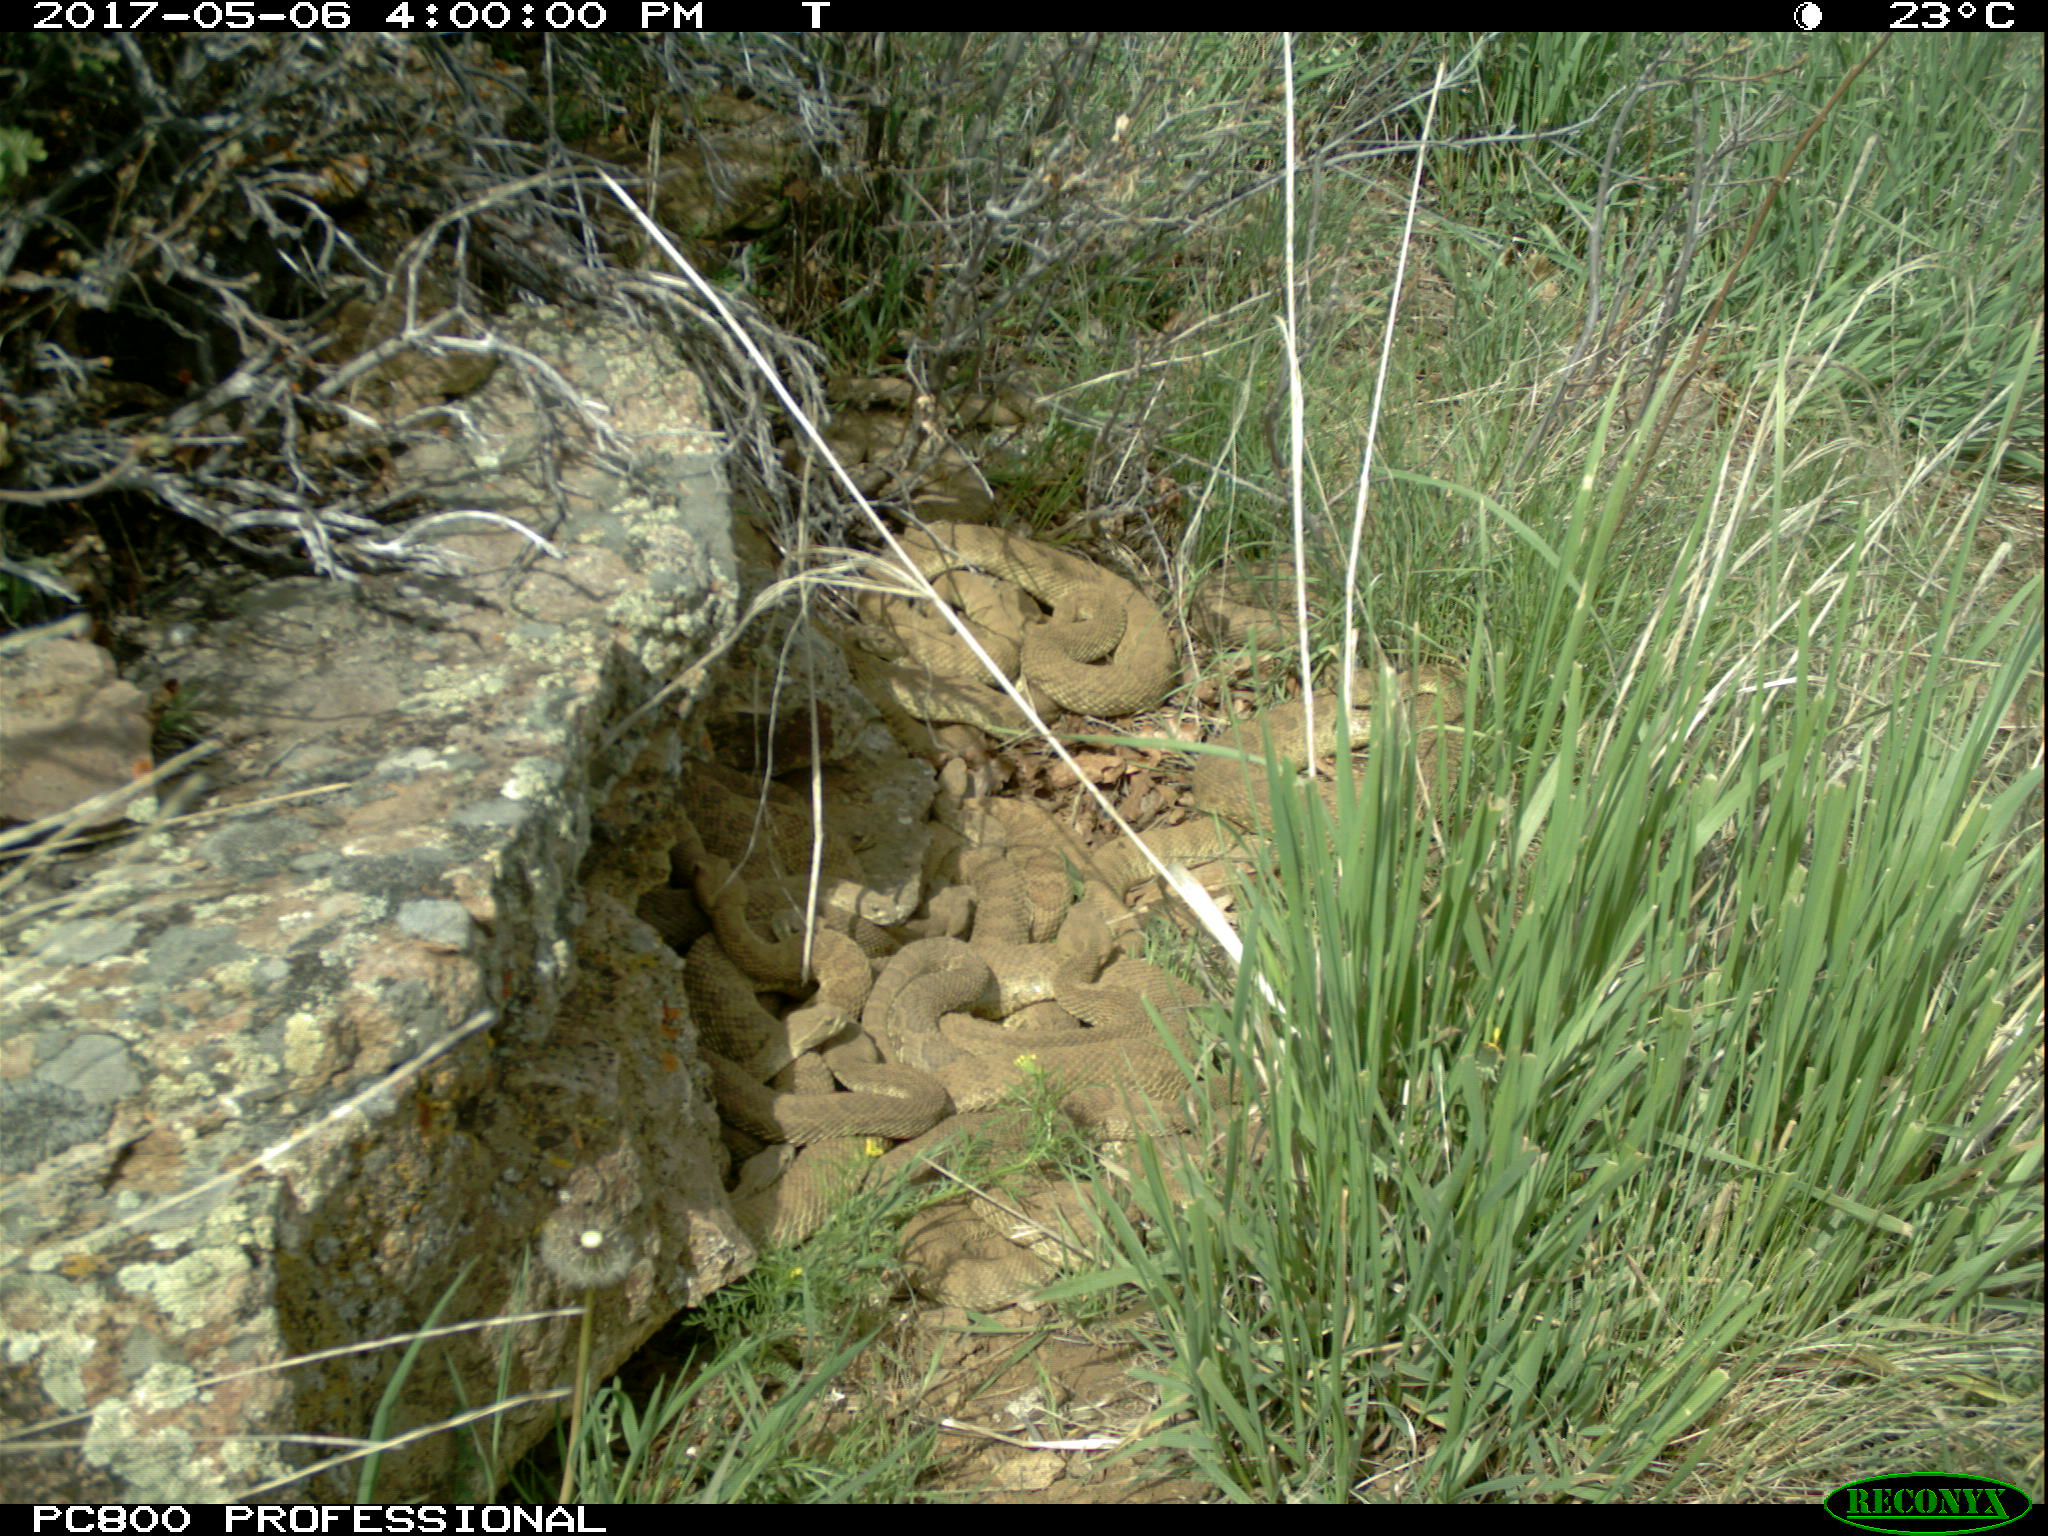snake: (921, 749, 1205, 1142), (677, 841, 956, 1142), (858, 511, 1187, 718), (1213, 666, 1488, 818), (884, 1171, 1138, 1305), (722, 1129, 889, 1247)
